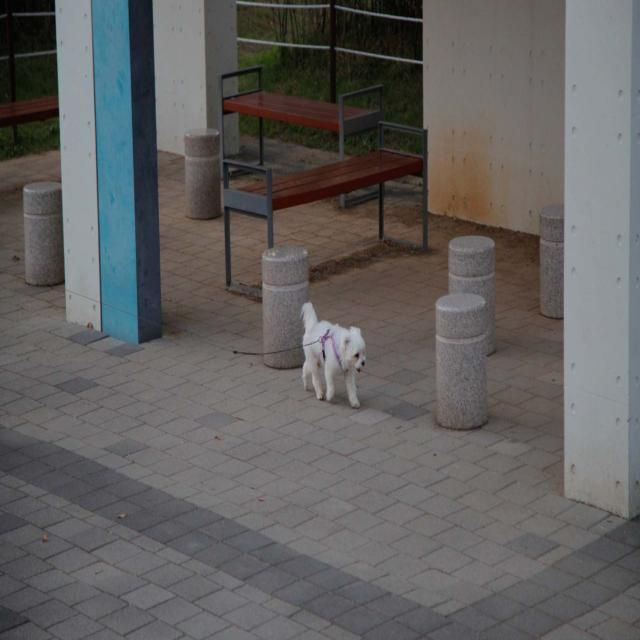Dog: (298, 302, 368, 408)
